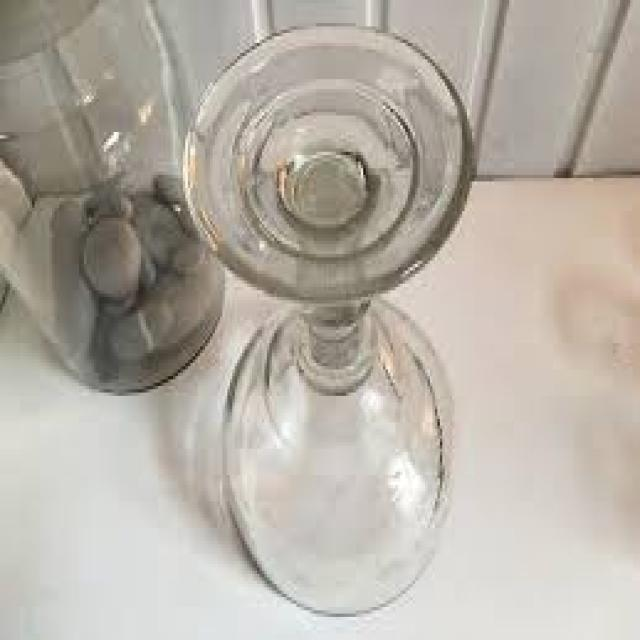Glass: (185, 21, 475, 616), (0, 0, 223, 392)
